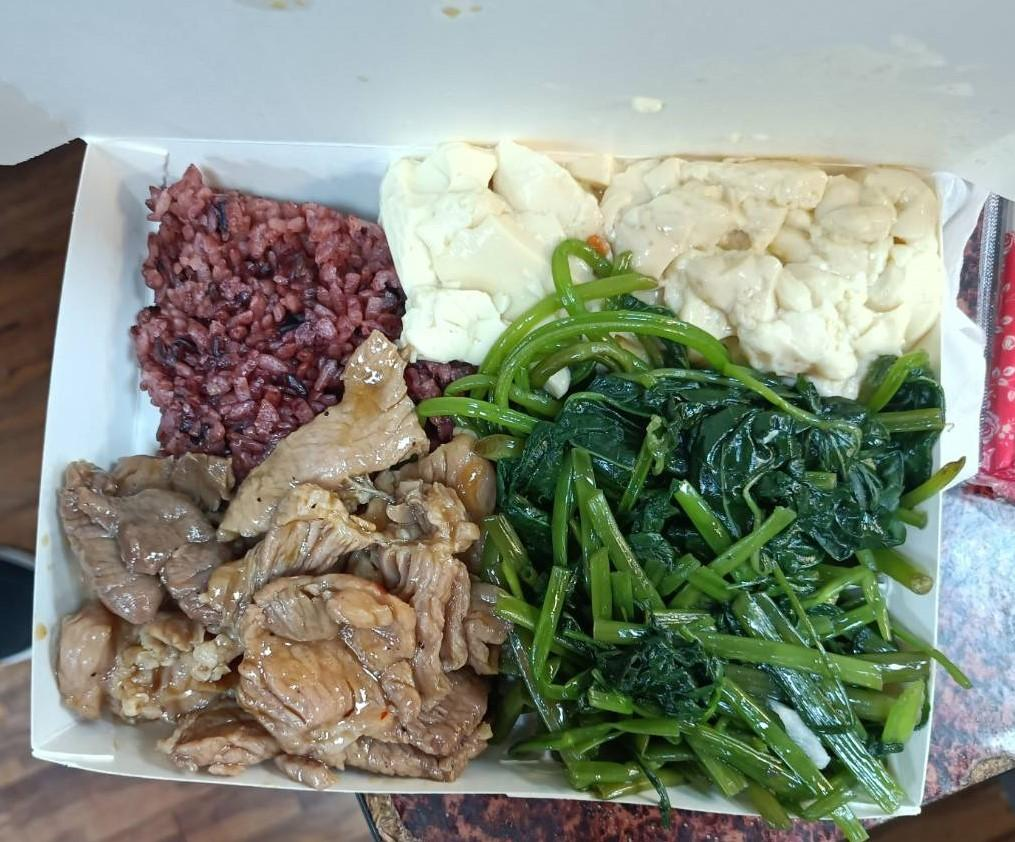big grilled chicken leg: (14, 116, 973, 829)
braised fish: (128, 194, 488, 707)
braised fish fillet: (400, 154, 925, 359), (495, 570, 912, 814), (492, 380, 925, 580)
braised pork: (53, 406, 488, 767)
